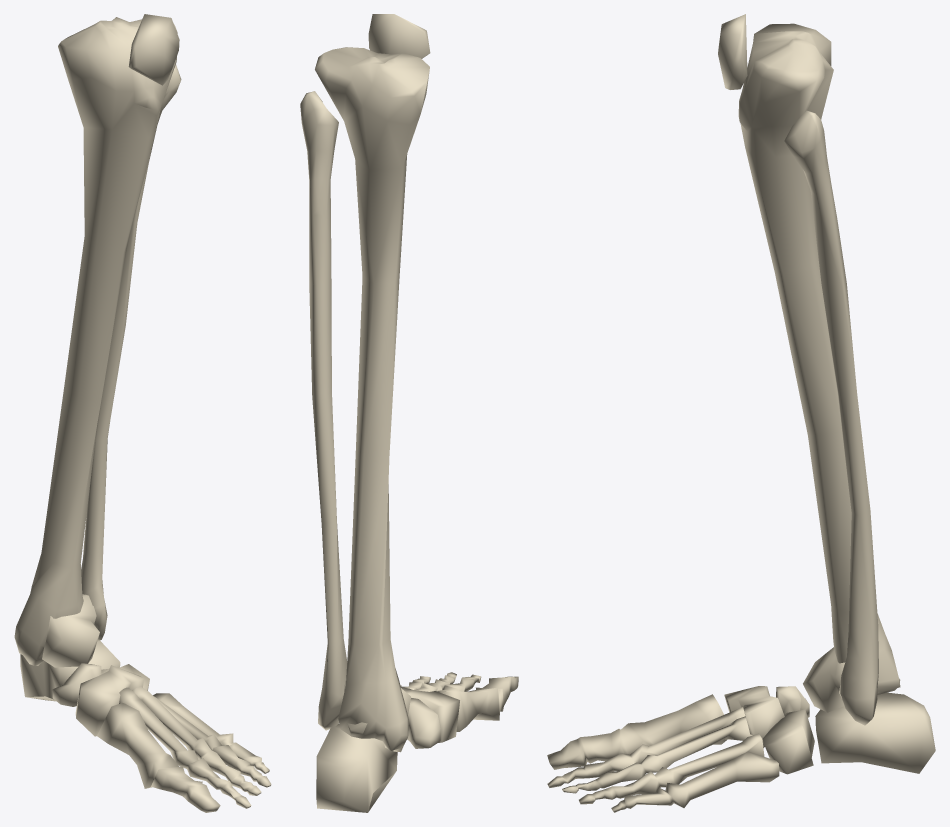
The model's file is leftshin.obj.
3 renders of one model, left to right at view 1: azimuth 30°, elevation 25°; view 2: azimuth 150°, elevation 25°; view 3: azimuth 270°, elevation 25°, orthographic. The views are drawn at different scales.
Visible parts, largest first — view 1: Left_Shin; view 2: Left_Shin; view 3: Left_Shin.
Part boxes in pixels (left/top/right/bottom): Left_Shin: left=14, top=14, right=271, bottom=812; Left_Shin: left=300, top=14, right=518, bottom=812; Left_Shin: left=547, top=14, right=935, bottom=812.
Size of the model in its own units: 3.88 by 20.27 by 9.3.
